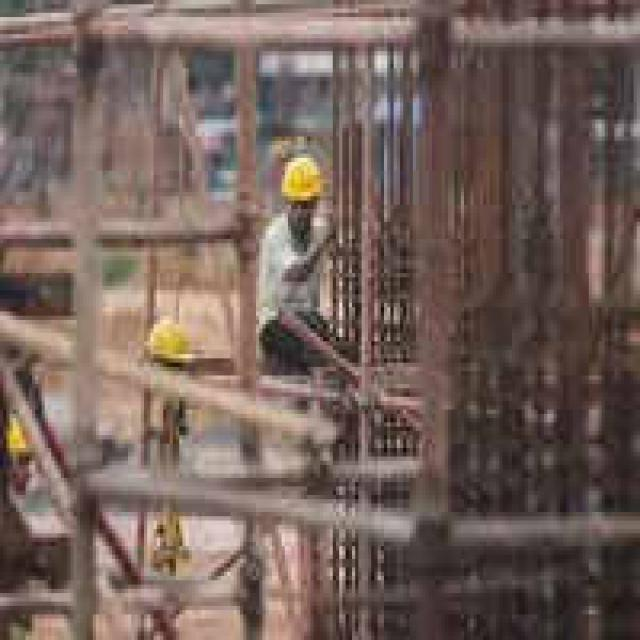reflective_jacket: (243, 217, 342, 358)
safety_helmet: (134, 307, 201, 379), (272, 149, 336, 217)
